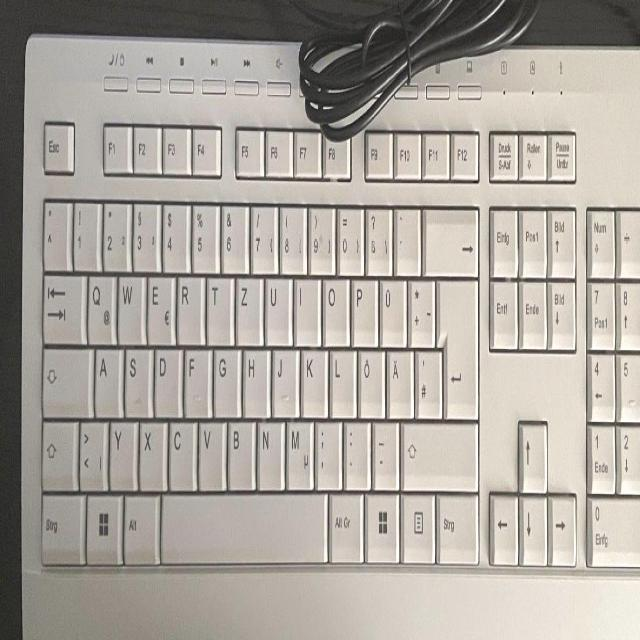0: (336, 200, 362, 272)
1: (72, 196, 98, 268)
2: (101, 196, 128, 268)
3: (131, 196, 158, 268)
4: (161, 197, 186, 269)
5: (190, 198, 216, 269)
6: (220, 198, 246, 270)
7: (250, 198, 275, 270)
8: (278, 199, 304, 272)
9: (307, 200, 333, 272)
a: (94, 343, 119, 414)
accent: (393, 202, 418, 272)
ae: (386, 343, 411, 416)
alt-left: (121, 487, 156, 561)
altgr-right: (327, 487, 361, 560)
b: (225, 414, 253, 487)
c: (167, 415, 193, 487)
caret: (41, 194, 67, 267)
comma: (314, 413, 339, 486)
d: (153, 342, 179, 415)
del: (422, 201, 478, 273)
e: (145, 269, 172, 342)
enter: (435, 271, 476, 418)
f: (183, 343, 208, 415)
g: (212, 342, 237, 414)
h: (242, 343, 267, 415)
hash: (414, 343, 440, 415)
i: (293, 271, 317, 342)
j: (271, 342, 296, 414)
k: (300, 343, 326, 414)
keyboard: (17, 28, 640, 640)
l: (328, 343, 354, 415)
less: (77, 415, 104, 487)
m: (284, 414, 311, 488)
minus: (371, 415, 396, 486)
n: (256, 415, 281, 487)
o: (321, 271, 347, 342)
oe: (357, 343, 383, 415)
p: (350, 271, 375, 343)
plus: (407, 273, 433, 343)
point: (341, 414, 368, 486)
q: (85, 269, 114, 342)
r: (175, 269, 201, 342)
s: (123, 342, 149, 414)
shift-left: (40, 415, 73, 487)
shift-lock: (40, 341, 90, 414)
shift-right: (400, 414, 475, 487)
space: (159, 487, 325, 562)
ss: (364, 201, 389, 273)
strg-left: (38, 487, 82, 562)
strg-right: (434, 490, 478, 563)
t: (205, 270, 230, 342)
tab: (41, 268, 82, 341)
u: (263, 270, 289, 343)
ue: (377, 272, 404, 345)
v: (197, 415, 222, 487)
w: (117, 270, 142, 341)
x: (138, 416, 164, 487)
y: (108, 415, 134, 487)
z: (234, 270, 259, 342)
